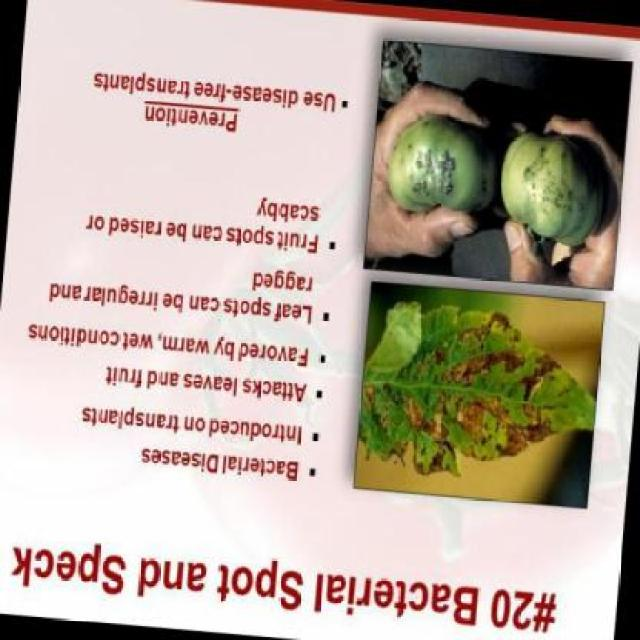Tomato leaf bacterial spot: (354, 294, 601, 491)
